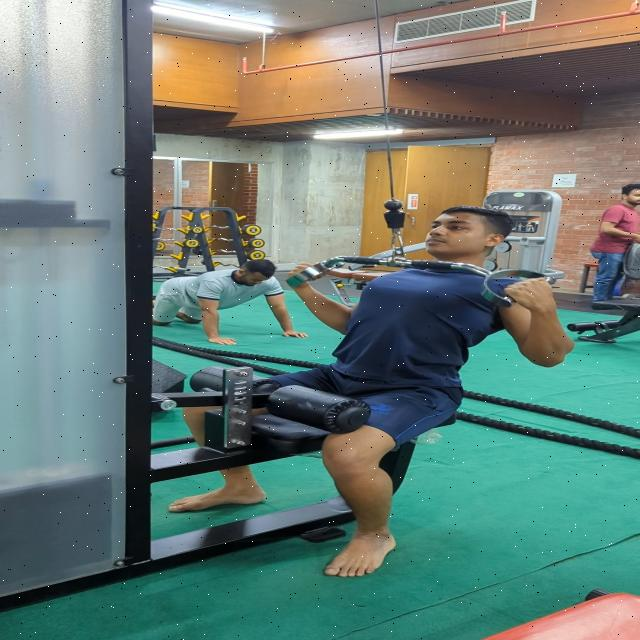Normal_LatPulldown: (157, 188, 581, 590)
